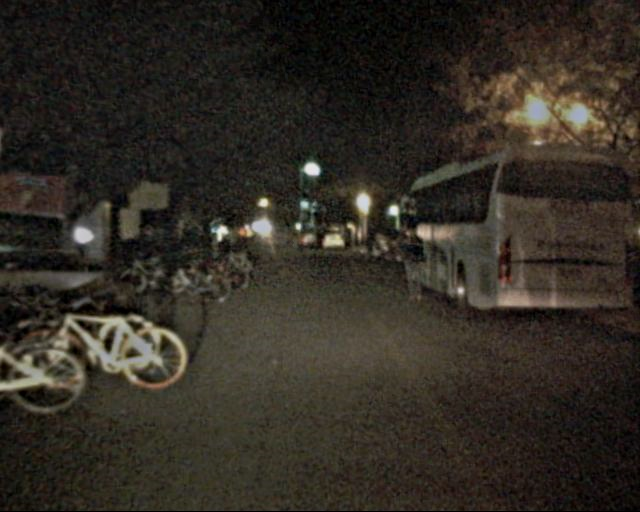person: (397, 223, 433, 311), (221, 217, 243, 266)
